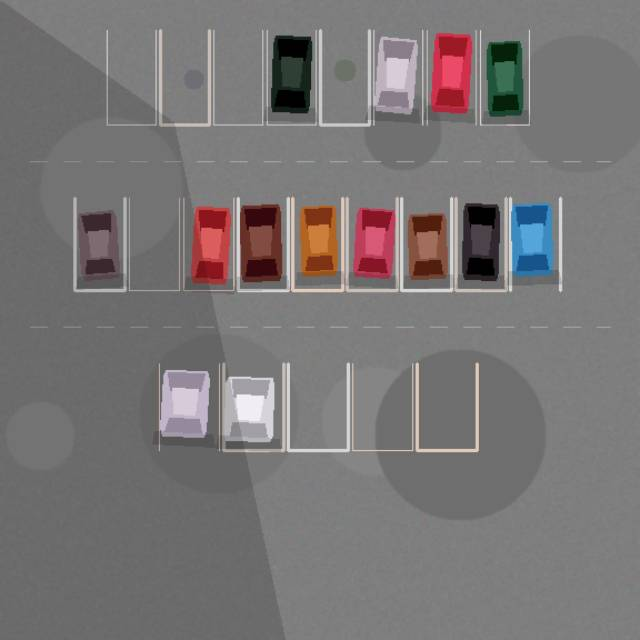space-empty: (288, 363, 348, 450), (352, 363, 412, 450), (417, 363, 477, 450), (107, 30, 156, 124), (160, 30, 209, 124), (213, 30, 262, 124), (320, 30, 369, 124), (129, 198, 179, 290)
space-occupied: (159, 363, 219, 450), (223, 363, 283, 450), (267, 30, 316, 124), (373, 30, 422, 124), (427, 30, 476, 124), (480, 30, 529, 124), (74, 198, 124, 290), (183, 198, 233, 290), (238, 198, 288, 290), (292, 198, 342, 290), (347, 198, 397, 290), (401, 198, 451, 290), (456, 198, 506, 290), (510, 198, 560, 290)
